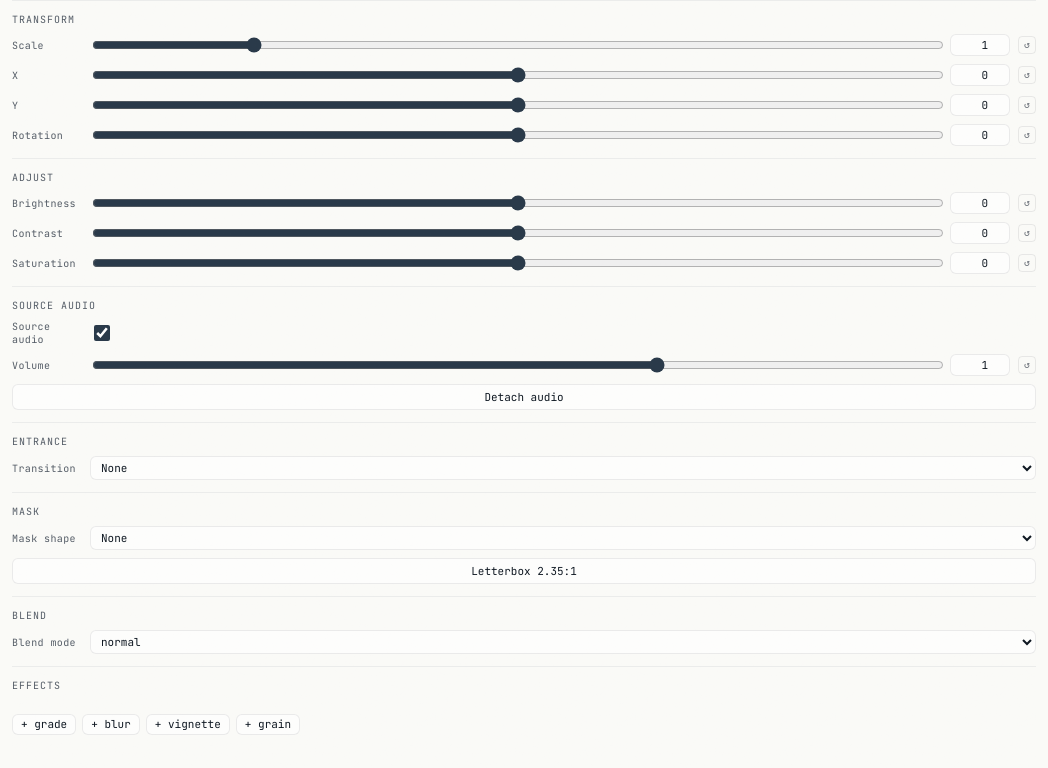
Test case: <StaticPropsPanel /> — blend + effects (S14) › adding an effect appends it to the clip's stack
Click the button with aria-label "Add effect grade" at [44, 724], box 12,714 -> 76,735
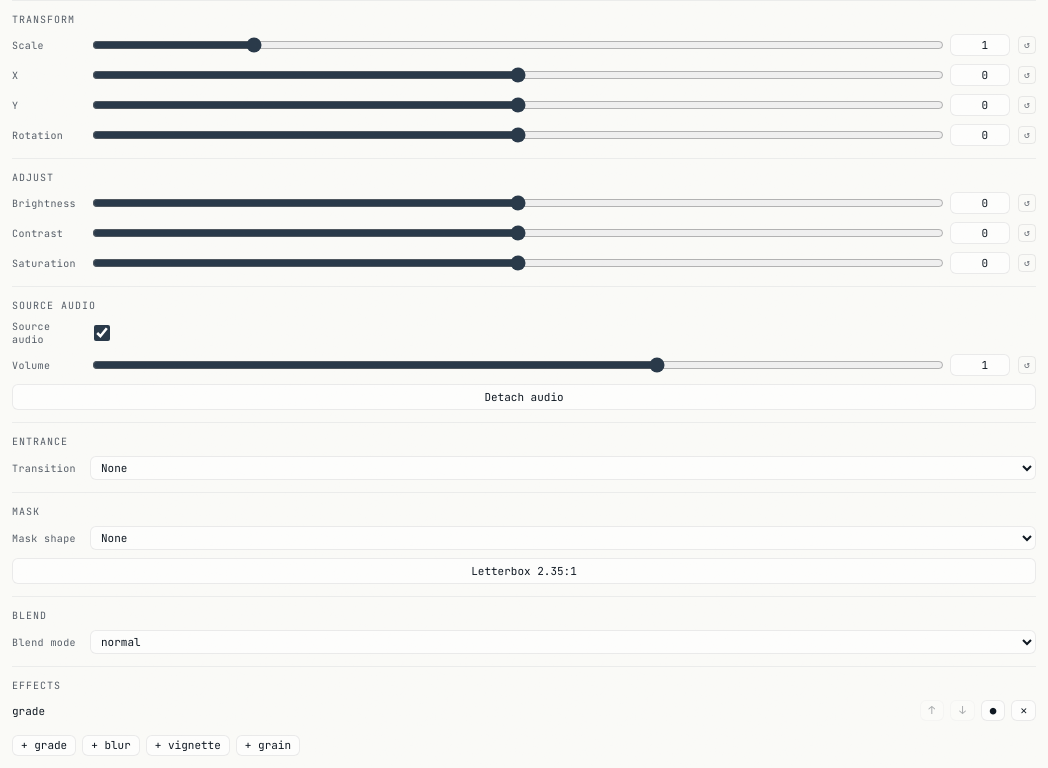
Check: the text "grade" is shown, box 12,704 -> 45,718
